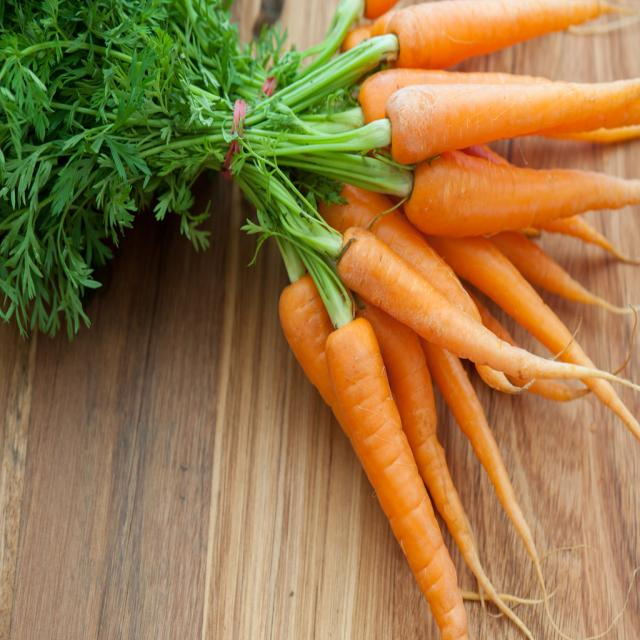Carrot: (334, 283, 462, 630), (372, 74, 640, 224)
